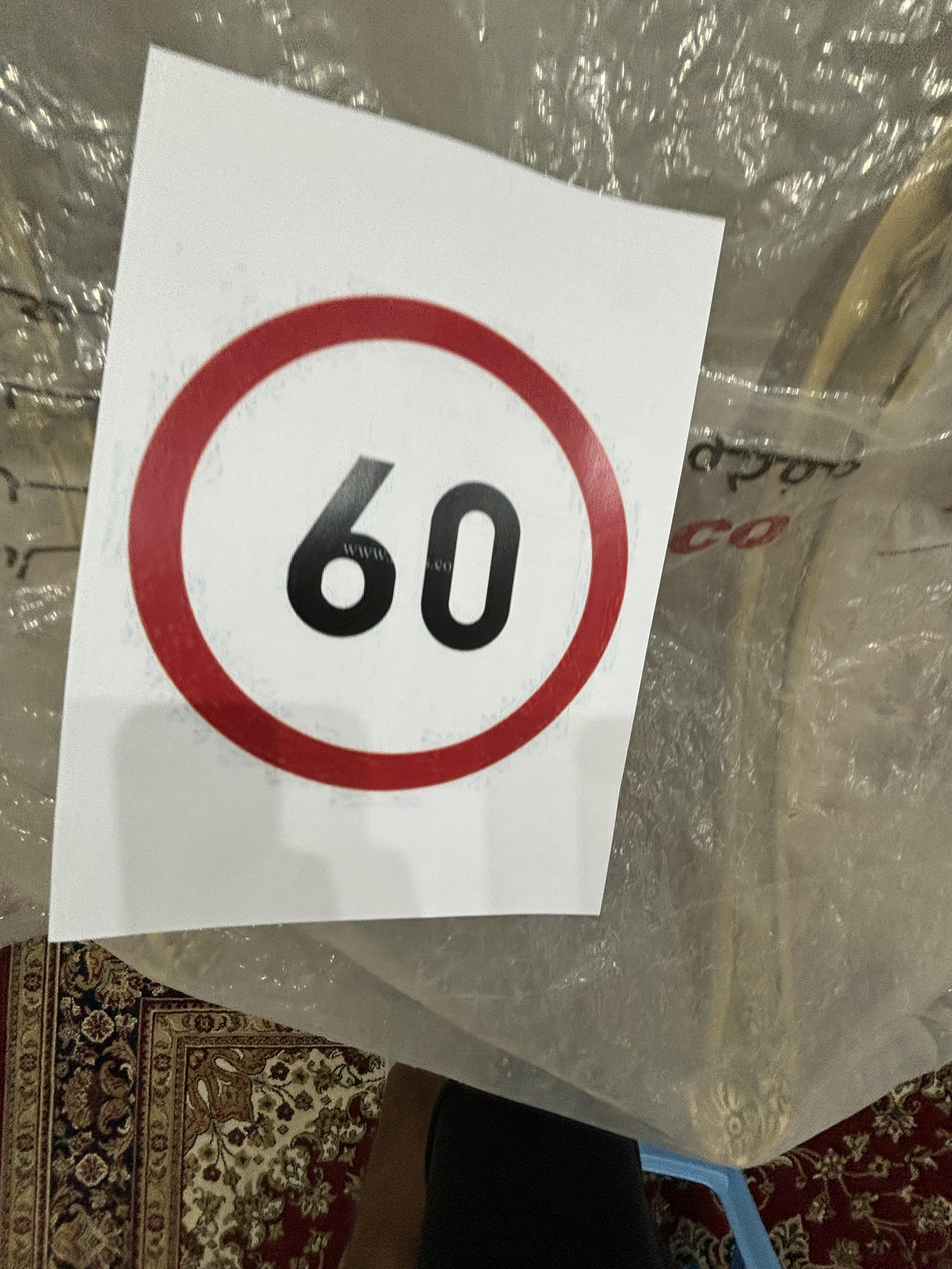60-Speed: (136, 293, 629, 797)
